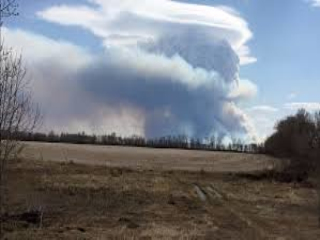smoke: (141, 20, 260, 149)
